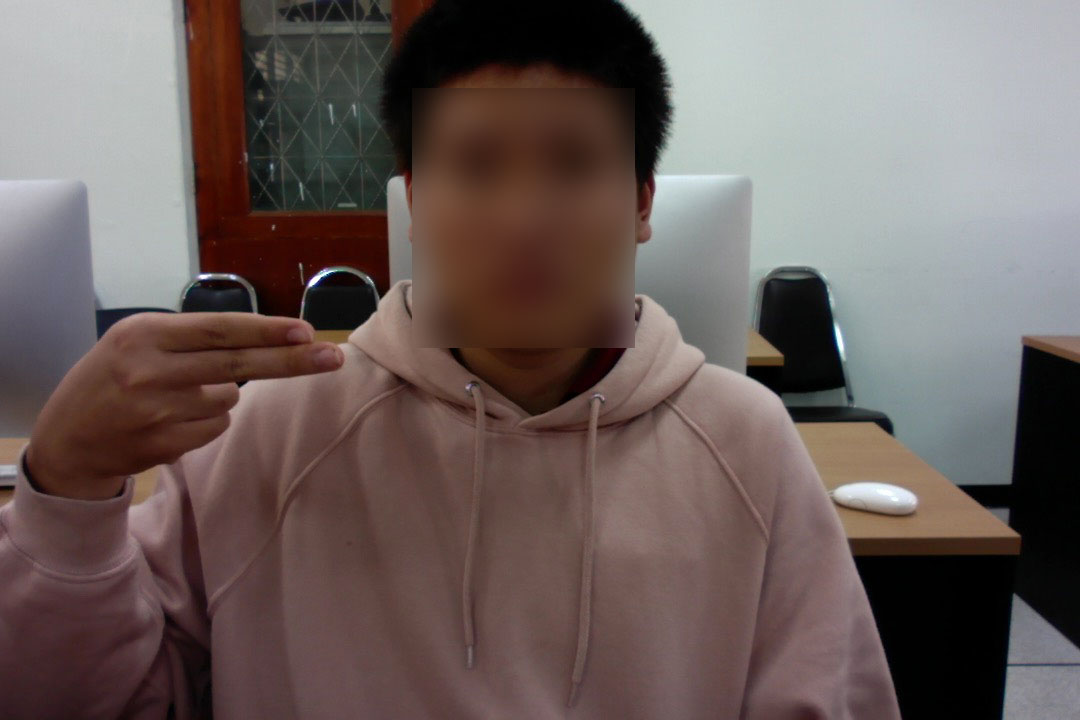hor: (14, 304, 347, 479)
